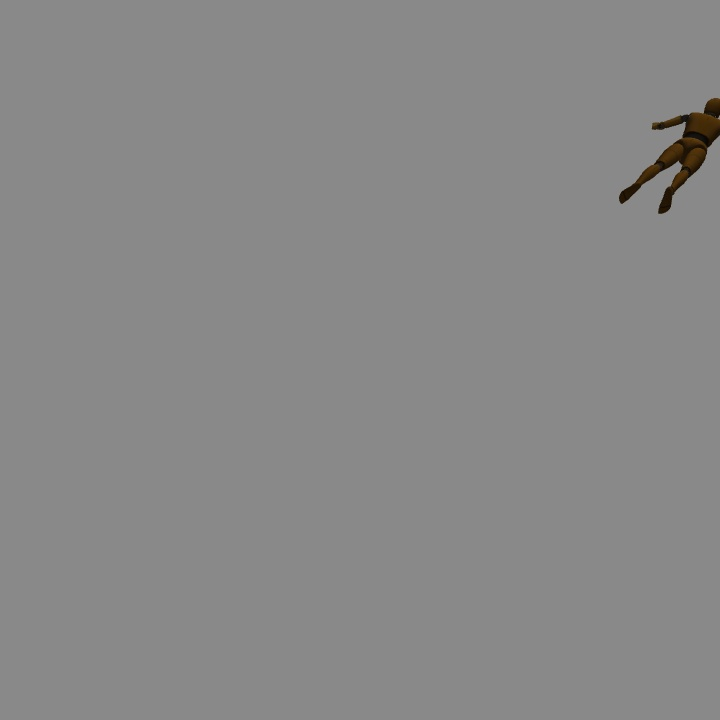victim: (620, 97, 719, 213)
